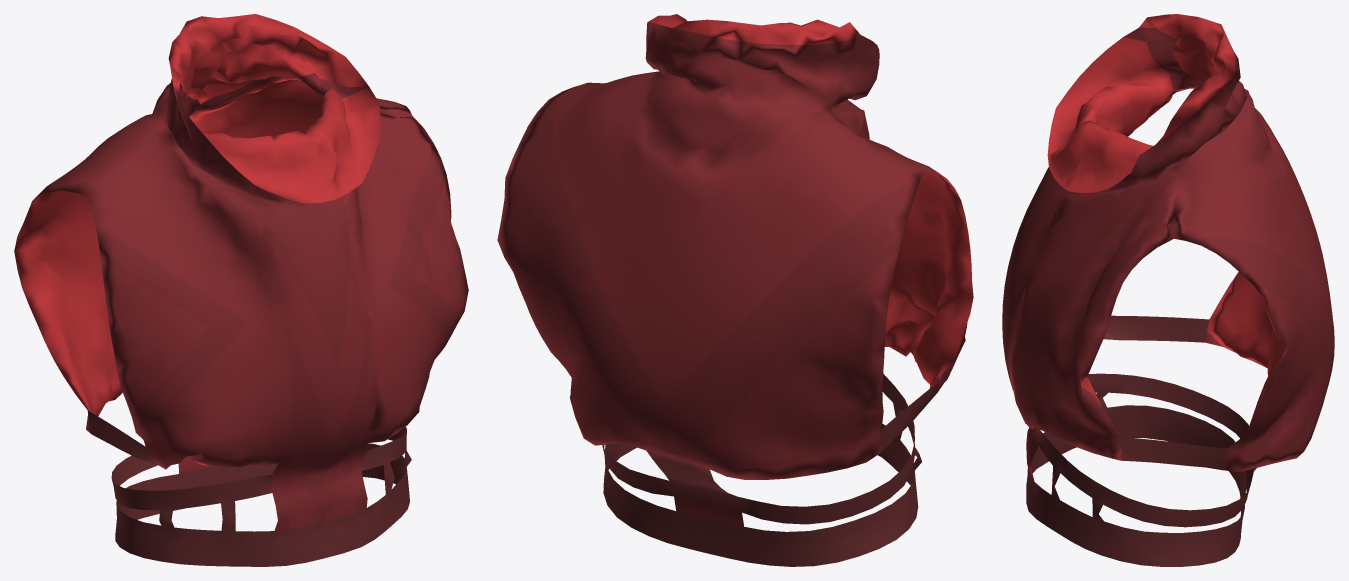
Rendered from Coelte.glb.
The picture shows the model from 3 angles, left to right: view 1: azimuth 30°, elevation 25°; view 2: azimuth 150°, elevation 25°; view 3: azimuth 270°, elevation 25°; orthographic projection. The views are drawn at different scales.
Visible parts, largest first — view 1: Cloth; view 2: Cloth; view 3: Cloth.
Part boxes in pixels (x1,y1,x2,y2): Cloth: [14, 14, 468, 566]; Cloth: [497, 14, 973, 566]; Cloth: [1002, 14, 1334, 566].
Bounding box in the file's own units: 40.2 × 52.71 × 33.25.
